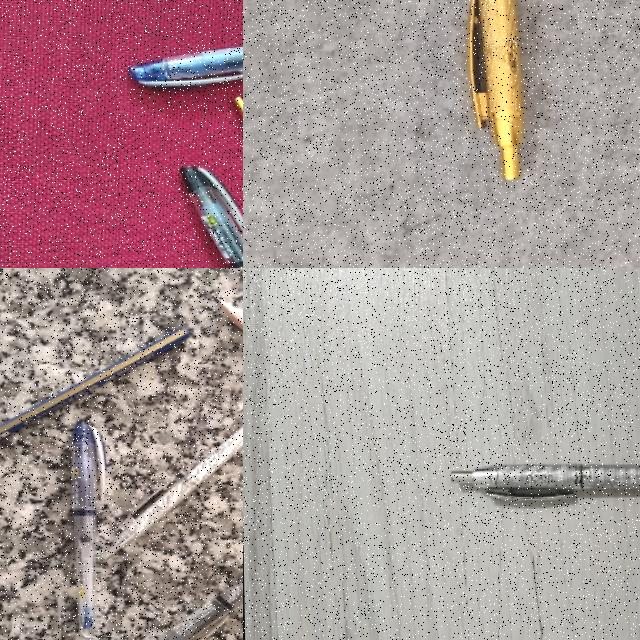pen: (142, 511, 243, 640), (70, 417, 110, 634), (129, 22, 243, 84), (181, 164, 243, 268)
pencil: (0, 329, 189, 439)
signature pen: (101, 425, 243, 558), (469, 0, 523, 178), (451, 464, 639, 500)
